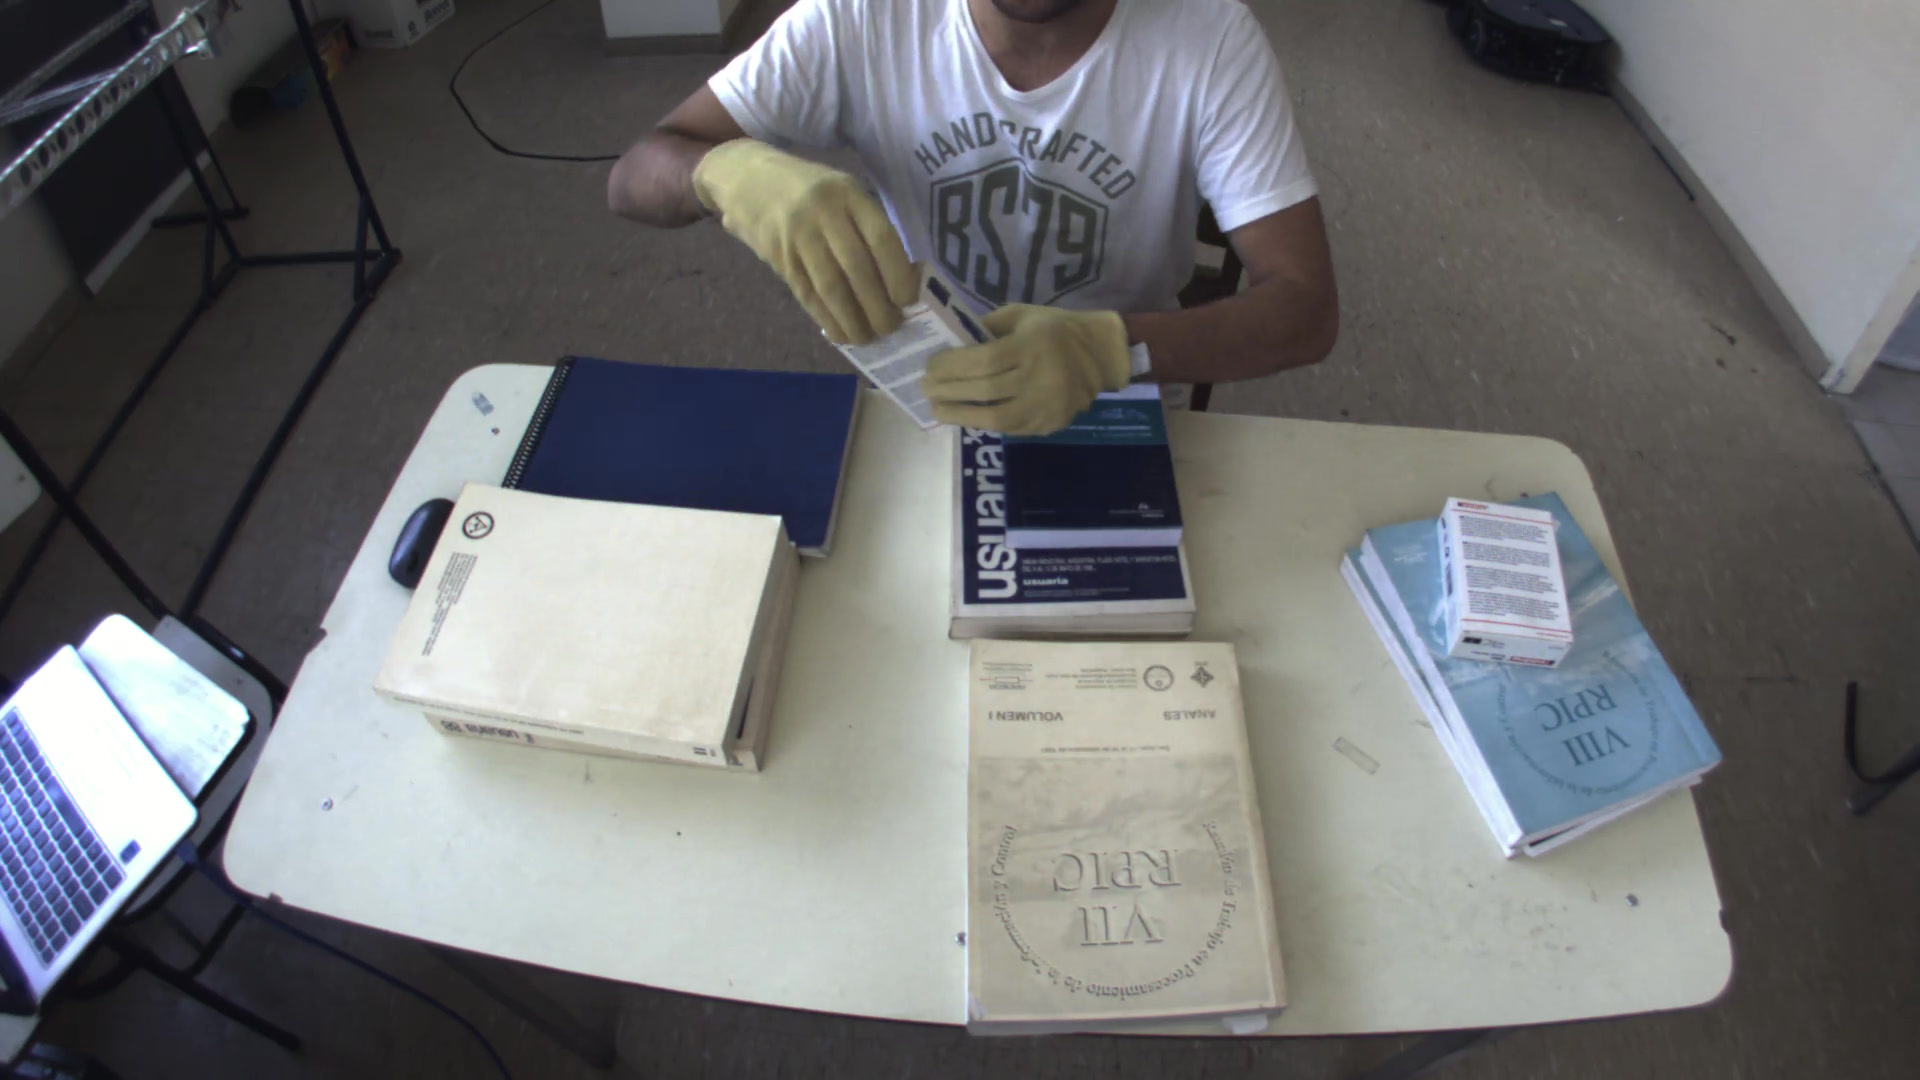hand: (683, 127, 928, 348), (911, 276, 1142, 442)
